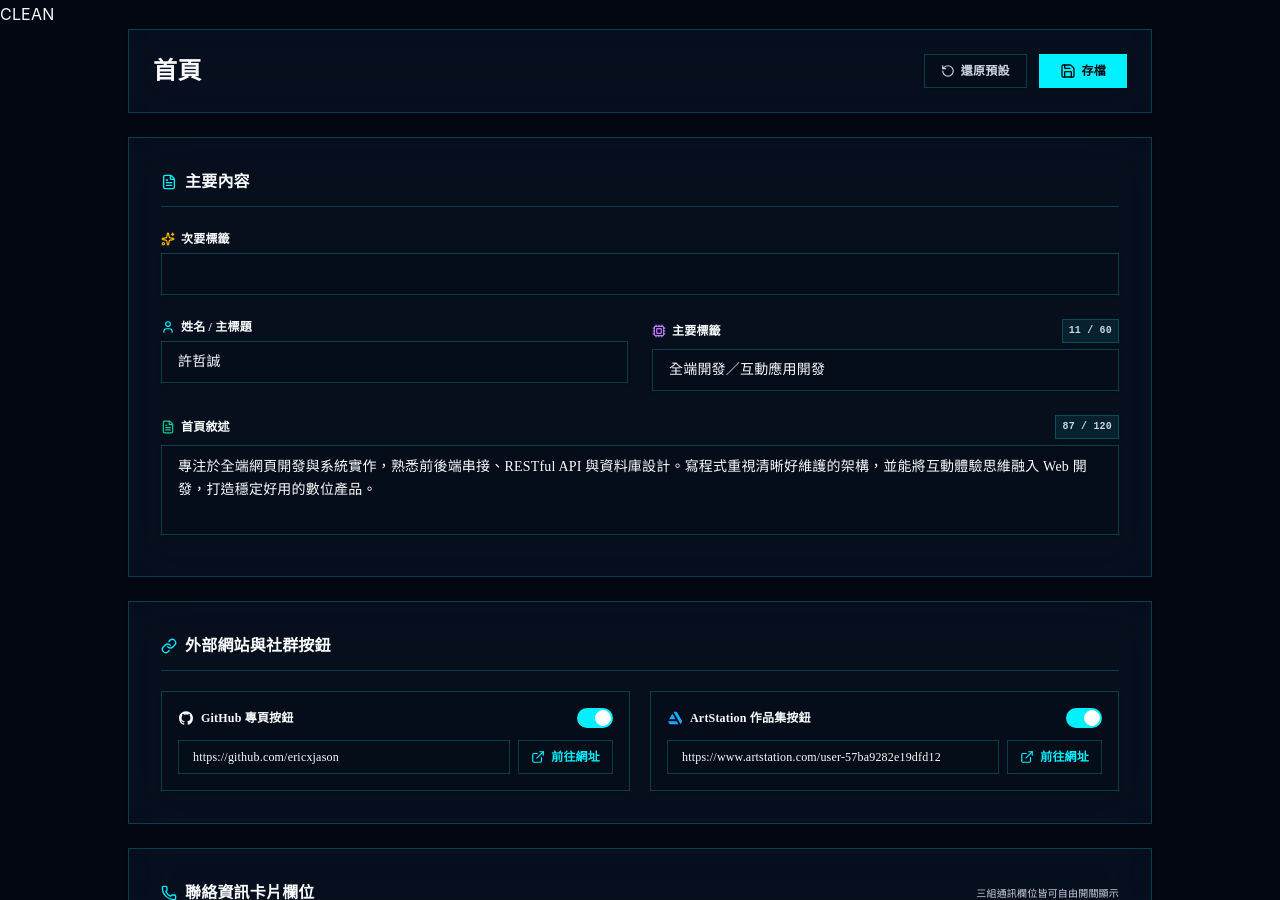
Scenario: CMS 編輯器按鈕流程與 Firebase 存檔串接單元測試 › 點擊「存檔」按鈕彈出確認視窗，點擊「取消」應關閉視窗且維持髒污狀態
Type "0988-777-666" into the field below "次要標籤". click: (640, 274)
box: x1=161 y1=253 x2=1119 y2=295
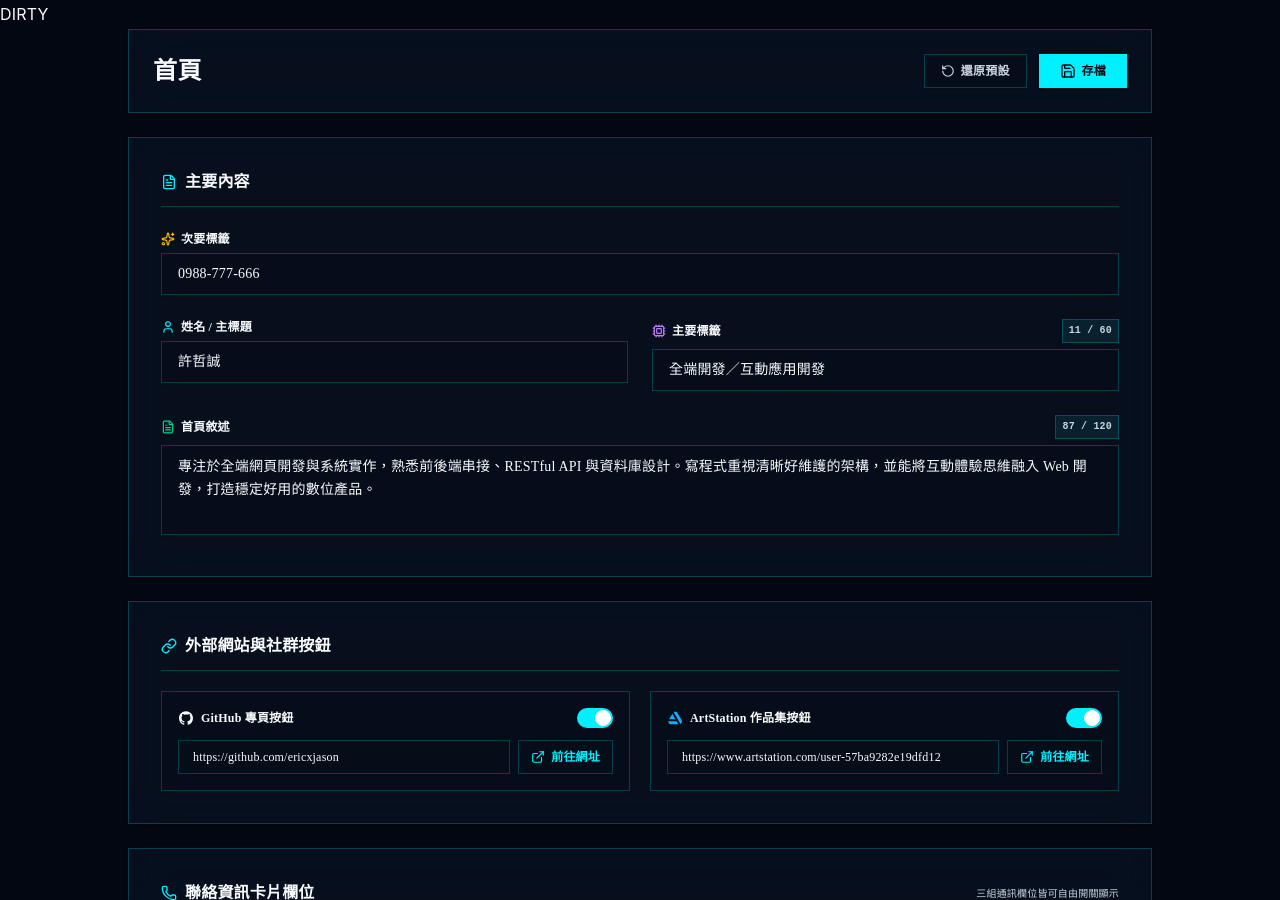
Result: the text with test id "dirty-indicator" reads "DIRTY" at x1=0 y1=4 x2=49 y2=24
Click the button "存檔". click: (1083, 71)
box: x1=1039 y1=54 x2=1127 y2=88
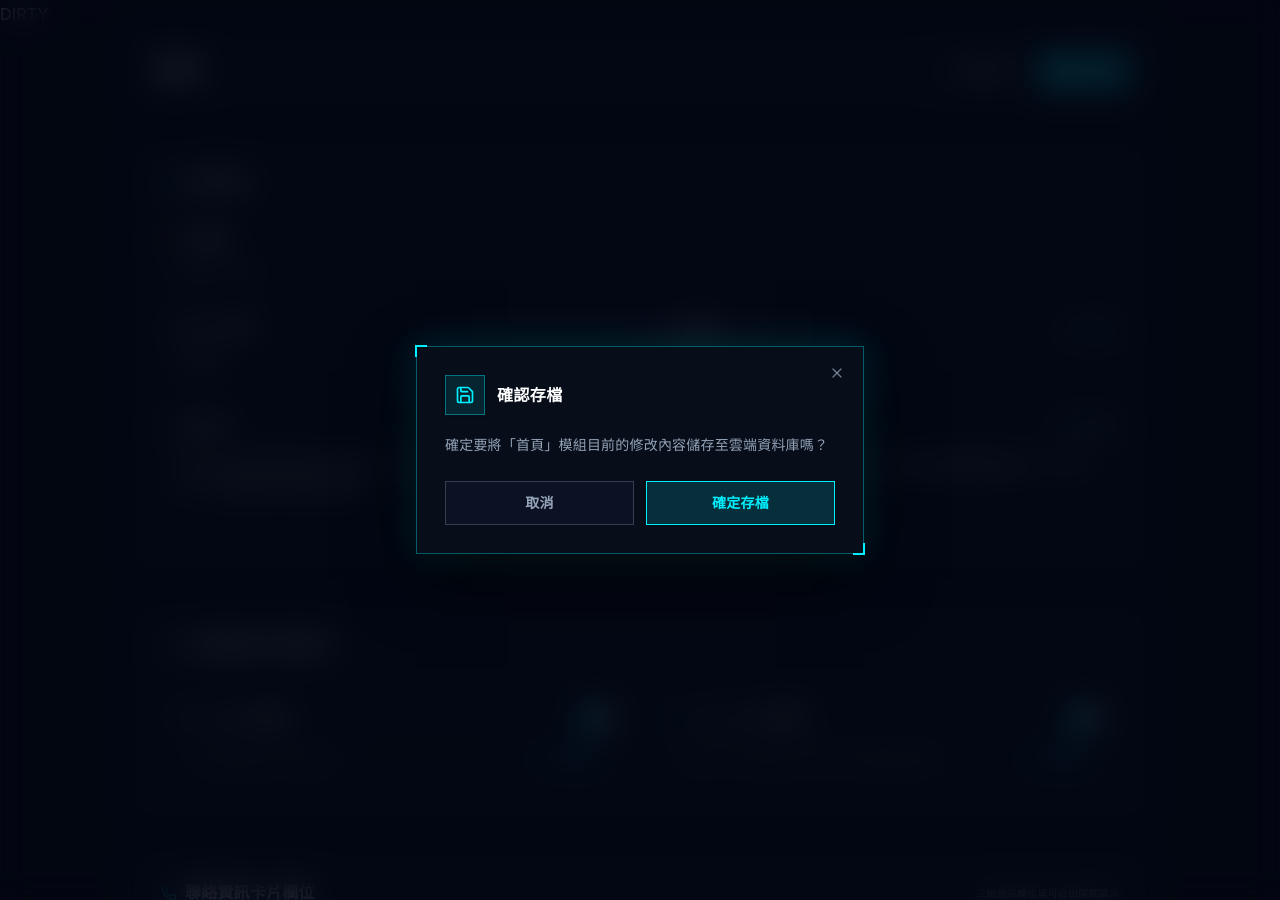
Result: the heading "確認存檔" is shown at x1=497 y1=385 x2=563 y2=405
Result: the text "確定要將「首頁」模組目前的修改內容儲存至雲端資料庫嗎？" is shown at x1=445 y1=435 x2=835 y2=457
Click the button "取消". click: (540, 503)
box: x1=445 y1=481 x2=634 y2=525
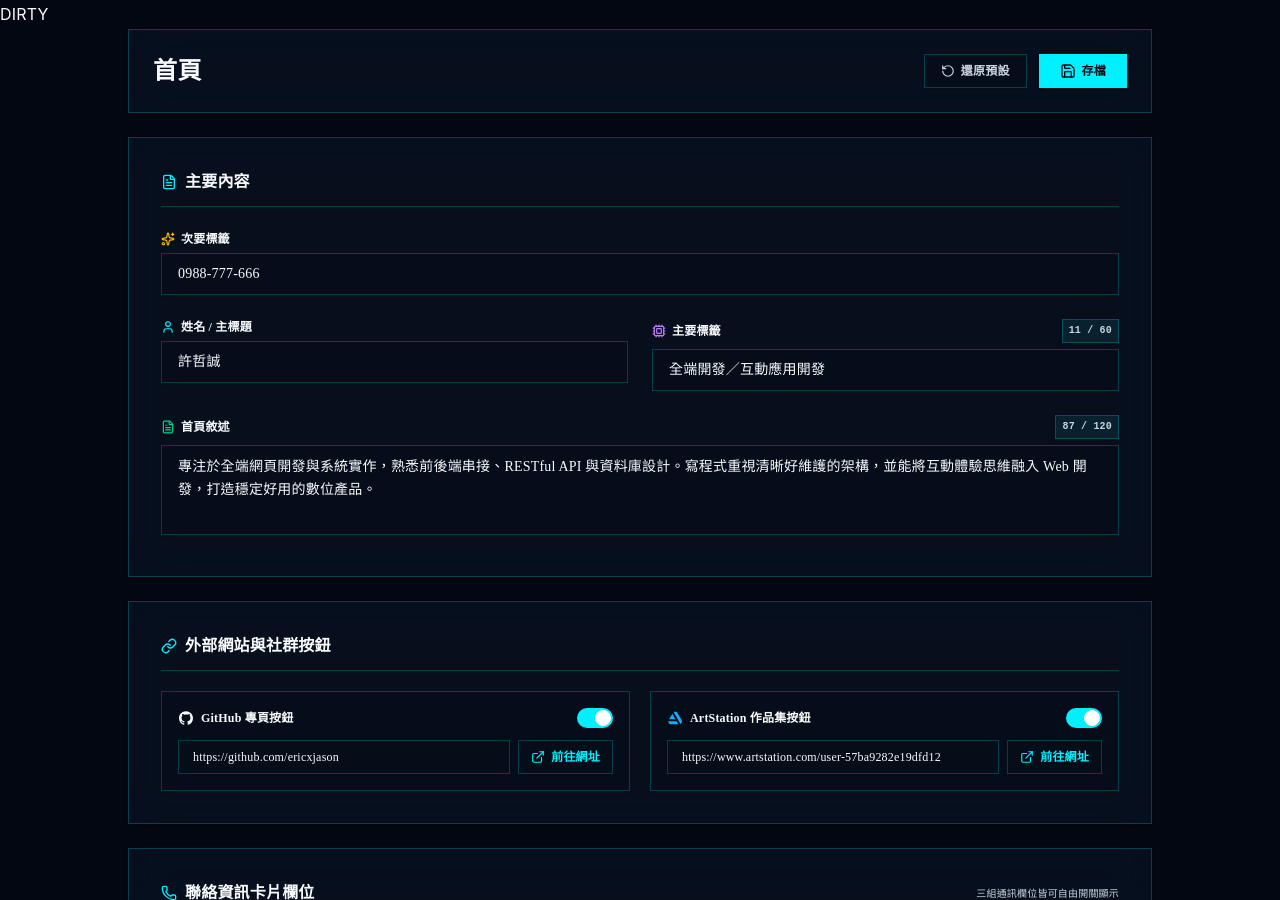
Result: the text with test id "dirty-indicator" reads "DIRTY" at x1=0 y1=4 x2=49 y2=24
Result: the heading "確認存檔" is gone
